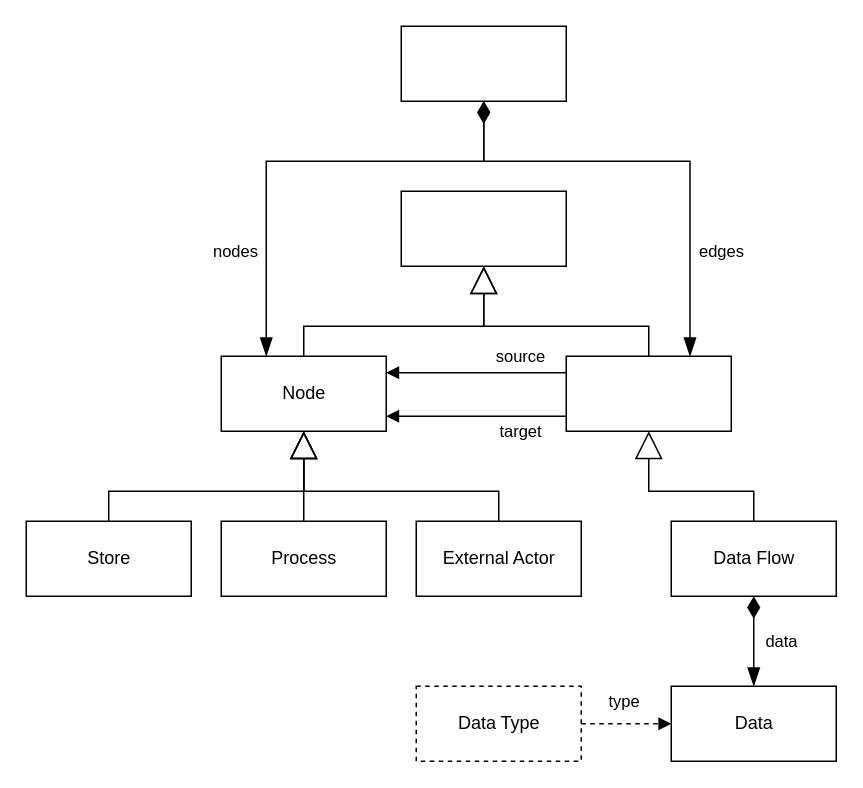
This 863x788 diagram has some shape labels left out. Each missing label, with the centre of its shape:
"Component" belongs at [483,228].
"Data Flow Diagram" belongs at [483,63].
"Edge" belongs at [648,393].
